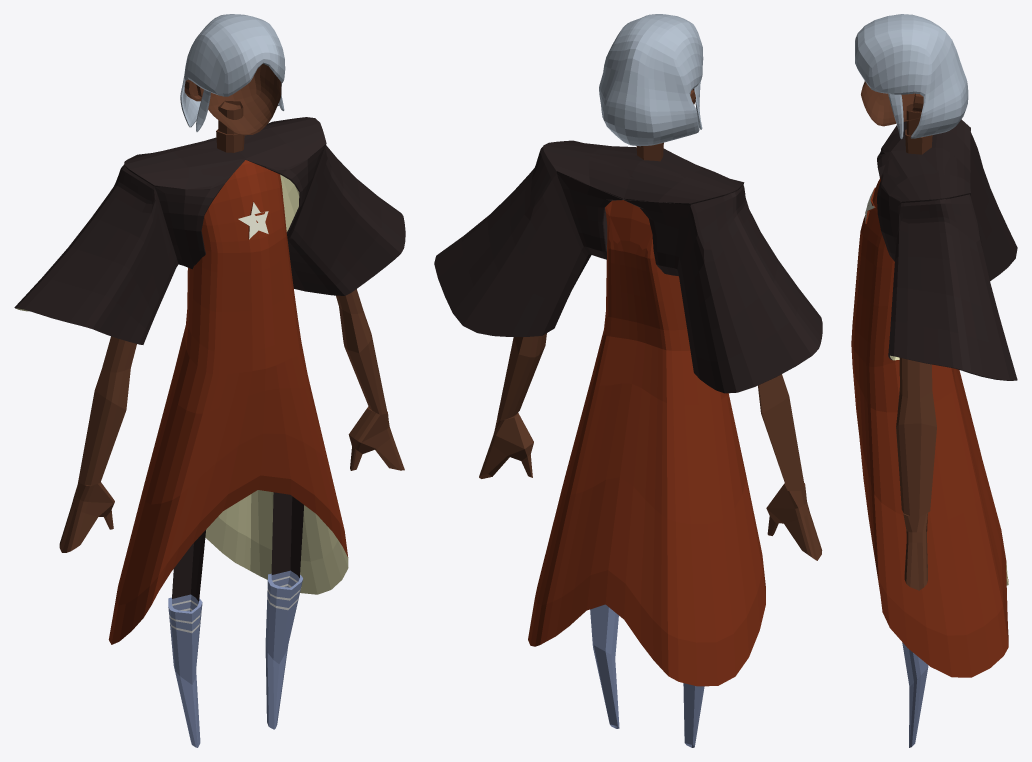
The model's file is character designfinal.fbx.
The picture shows the model from 3 angles, left to right: view 1: azimuth 30°, elevation 25°; view 2: azimuth 150°, elevation 25°; view 3: azimuth 270°, elevation 25°; orthographic projection.
Visible parts, largest first — view 1: Circle, Cylinder.002, Cube.004, Cube.003, Cylinder.004, Cylinder, Cube.001, Cylinder.003; view 2: Circle, Cylinder.002, Cube.003, Cube.004, Cylinder.004, Cylinder; view 3: Circle, Cylinder.002, Cube.003, Cube.004, Cylinder.004, Cube.001, Cylinder.003.
Part boxes in pixels (x1,y1,x2,y2): Circle: (108,160,348,644); Cylinder.002: (14,117,405,344); Cube.004: (59,289,404,552); Cube.003: (180,14,285,131); Cylinder.004: (265,492,303,729); Cylinder: (168,530,205,747); Cube.001: (201,64,281,135); Cylinder.003: (216,100,244,152); Circle: (528,200,765,686); Cylinder.002: (434,140,822,393); Cube.003: (599,14,703,146); Cube.004: (479,333,822,560); Cylinder.004: (590,604,619,728); Cylinder: (683,683,704,747); Circle: (851,175,1008,677); Cylinder.002: (877,119,1017,380); Cube.003: (855,14,968,139); Cube.004: (896,358,936,590); Cylinder.004: (902,642,928,747); Cube.001: (861,81,921,126); Cylinder.003: (905,104,932,154).
Bounding box in the file's own units: 235 × 420 × 89.29.
